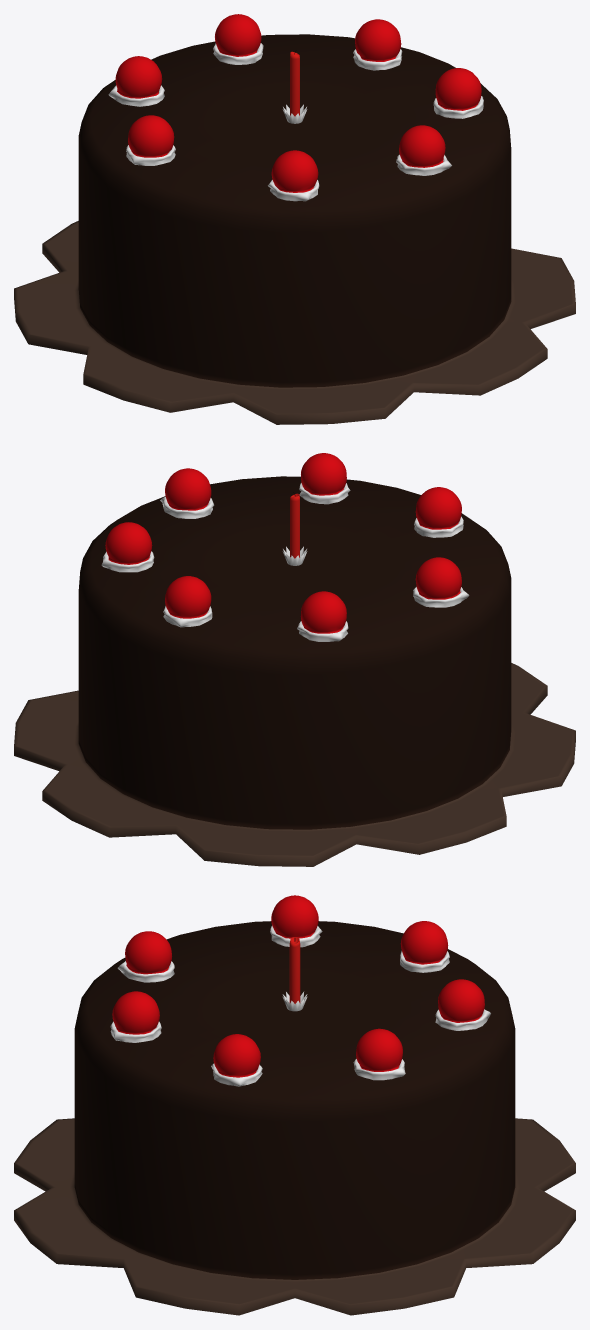
File: cake.dae
The picture shows the model from 3 angles, top to bottom: view 1: azimuth 30°, elevation 25°; view 2: azimuth 150°, elevation 25°; view 3: azimuth 270°, elevation 25°; orthographic projection.
Parts seen in each view (by area): view 1: cake, decoration, candle; view 2: cake, decoration, candle; view 3: cake, decoration, candle.
Part boxes in pixels (box(x1,y1,x2,y2)): cake: box(14, 34, 575, 424); decoration: box(108, 14, 483, 201); candle: box(282, 50, 307, 123); cake: box(14, 476, 575, 866); decoration: box(101, 453, 469, 641); candle: box(282, 492, 307, 565); cake: box(14, 921, 575, 1315); decoration: box(110, 895, 490, 1086); candle: box(282, 937, 307, 1011).
Bounding box in the file's own units: 2.55 × 2.55 × 1.3.
